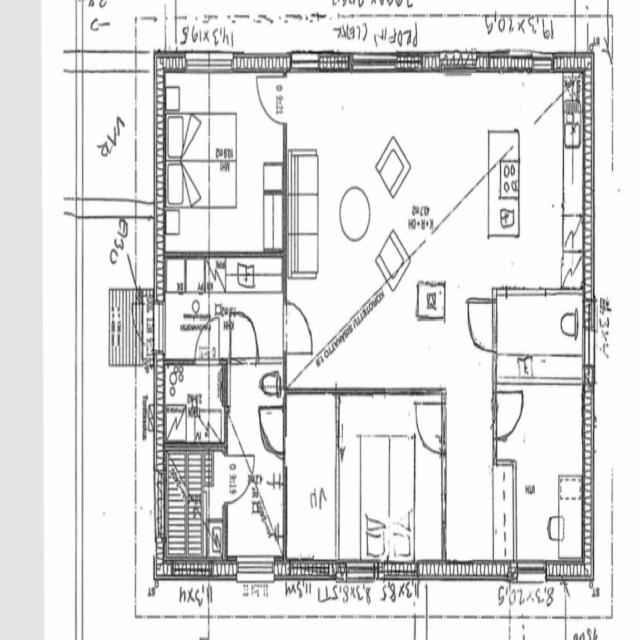door: (225, 390, 288, 560), (280, 292, 317, 358), (226, 300, 262, 366), (465, 296, 498, 356), (256, 400, 288, 461), (254, 67, 287, 126), (493, 385, 526, 443), (414, 398, 445, 458), (191, 319, 216, 365)
window: (182, 47, 236, 76), (234, 552, 276, 583), (350, 50, 400, 75), (287, 47, 321, 76), (514, 558, 550, 583), (154, 296, 167, 356), (528, 49, 555, 75)
zone: (162, 66, 286, 255), (486, 70, 582, 293), (336, 392, 444, 564), (493, 380, 588, 566), (78, 44, 152, 216), (178, 257, 289, 359), (224, 392, 286, 561), (285, 388, 339, 569), (493, 289, 586, 385), (160, 443, 225, 565), (162, 358, 226, 445)
